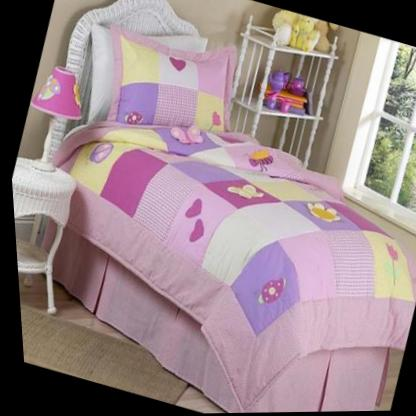Bed: (33, 0, 412, 414)
